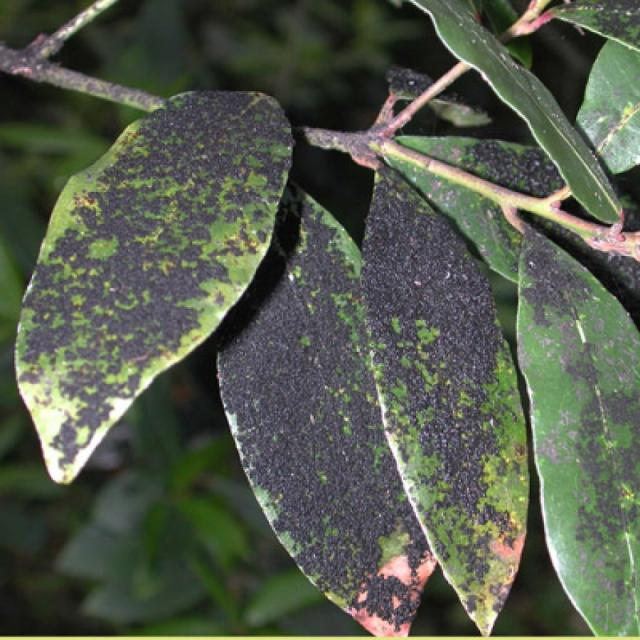Sooty Mold: (38, 92, 493, 614)
